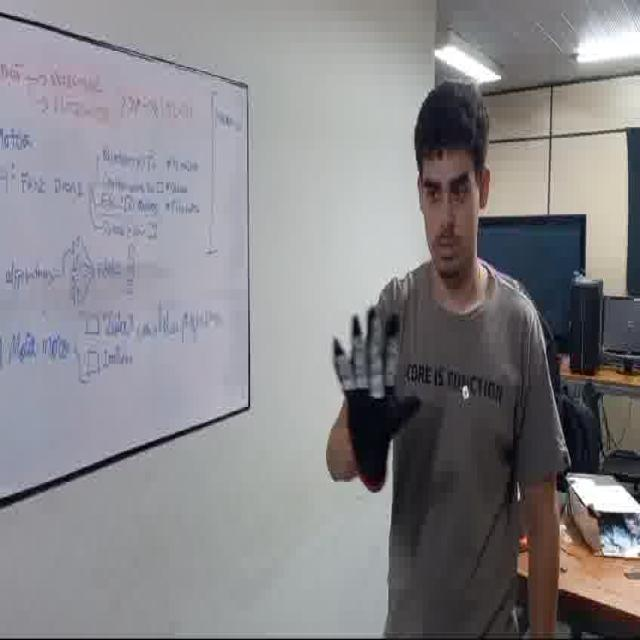Gloves: (329, 298, 426, 488)
